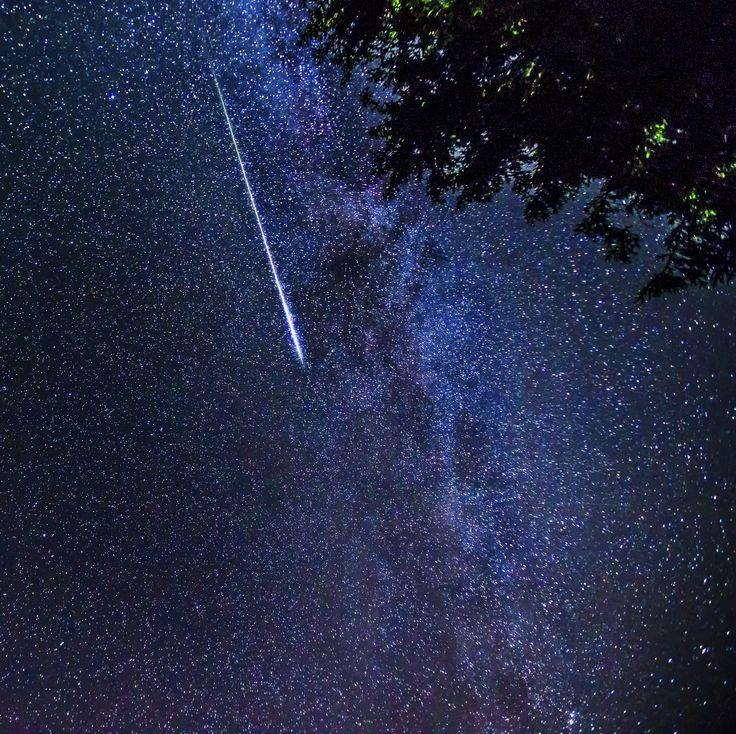meteor: (287, 340, 330, 375)
